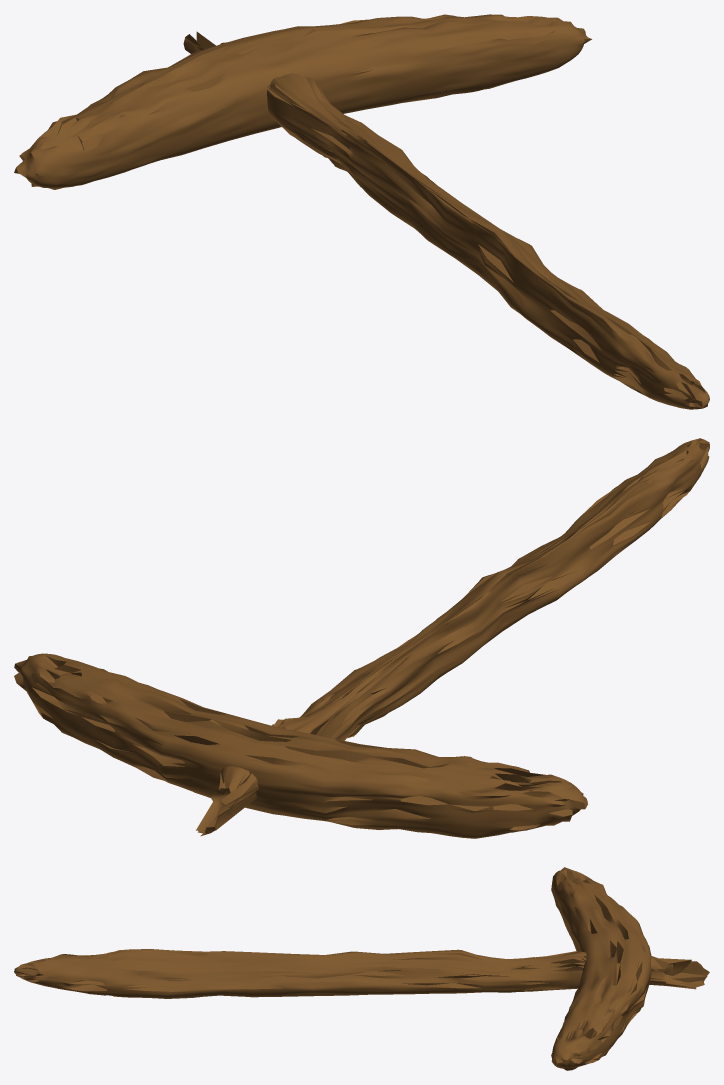
Rendered from pickaxe.glb.
3 renders of one model, top to bottom at view 1: azimuth 30°, elevation 25°; view 2: azimuth 150°, elevation 25°; view 3: azimuth 270°, elevation 25°, orthographic. The views are drawn at different scales.
Visible parts, largest first — view 1: Object_3, Object_2; view 2: Object_3, Object_2; view 3: Object_2, Object_3.
Boxes of the visible parts, <box> form: Object_3: <box>14,14,591,189</box>; Object_2: <box>183,31,709,409</box>; Object_3: <box>14,653,587,838</box>; Object_2: <box>196,438,709,836</box>; Object_2: <box>14,949,709,998</box>; Object_3: <box>551,867,651,1070</box>.
Bounding box in the file's own units: 16.17 × 2.04 × 25.07.
